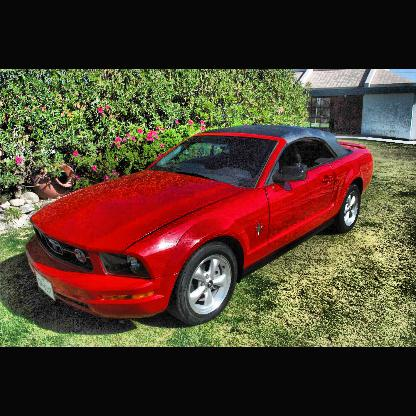Ford Mustang Convertible 2007: (26, 123, 376, 325)
